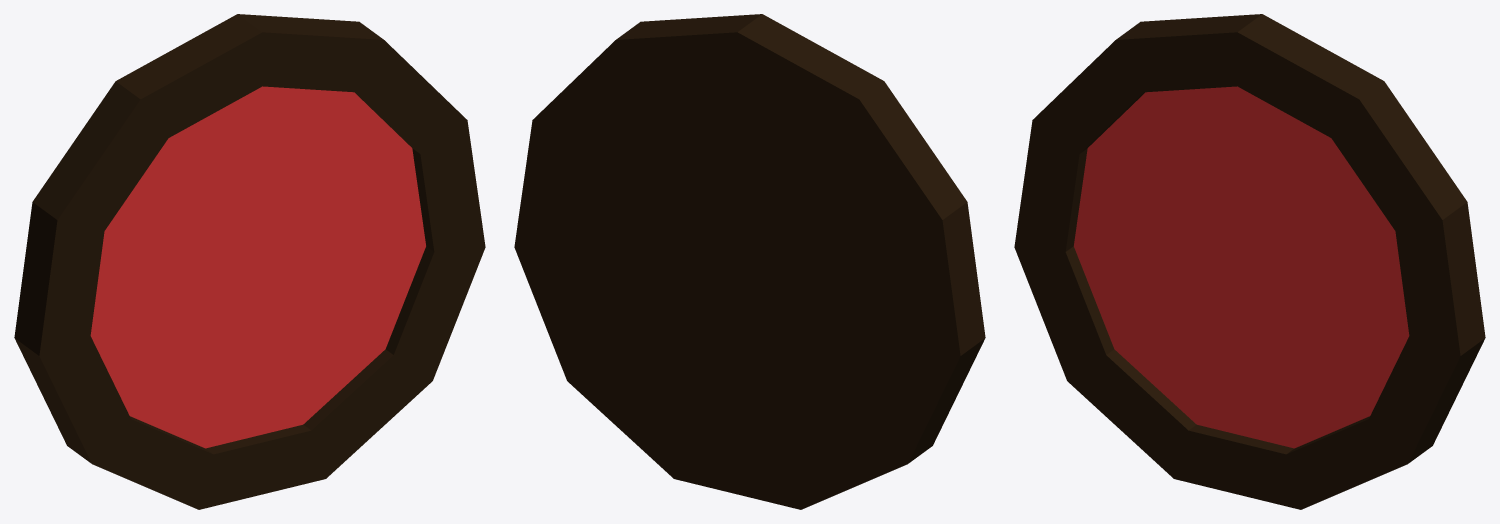
Rendered from ArrowSpawner.fbx.
The picture shows the model from 3 angles, left to right: view 1: azimuth 30°, elevation 25°; view 2: azimuth 150°, elevation 25°; view 3: azimuth 330°, elevation 25°; orthographic projection.
Visible parts, largest first — view 1: Cylinder; view 2: Cylinder; view 3: Cylinder.
Boxes of the visible parts, x1,y1,x2,y2 form: Cylinder: (14, 14, 485, 509); Cylinder: (514, 14, 985, 509); Cylinder: (1014, 14, 1485, 509).
Bounding box in the file's own units: 1.98 × 1.96 × 0.192.
